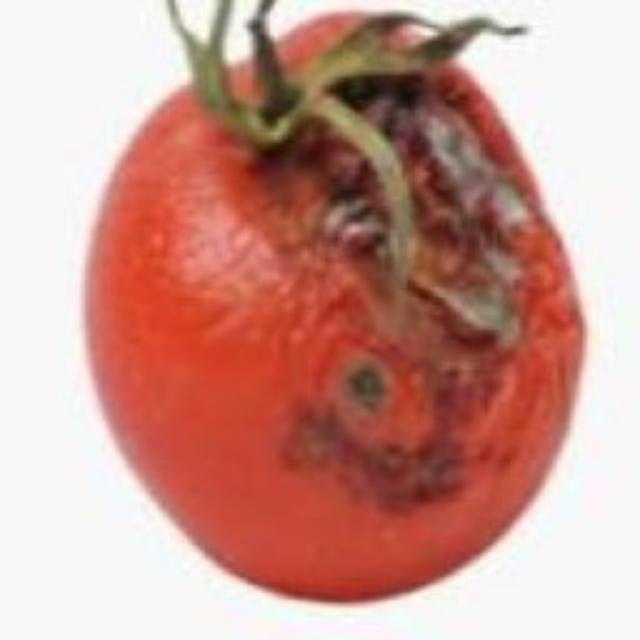defect: (80, 0, 586, 611)
